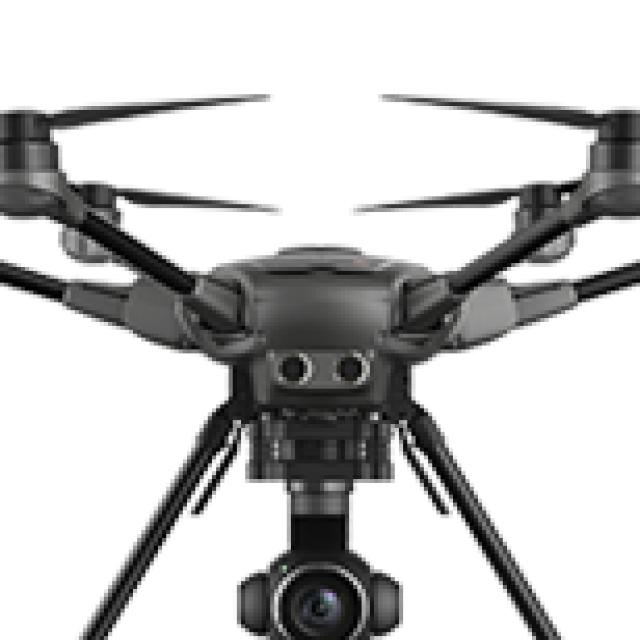drone: (0, 79, 640, 388)
